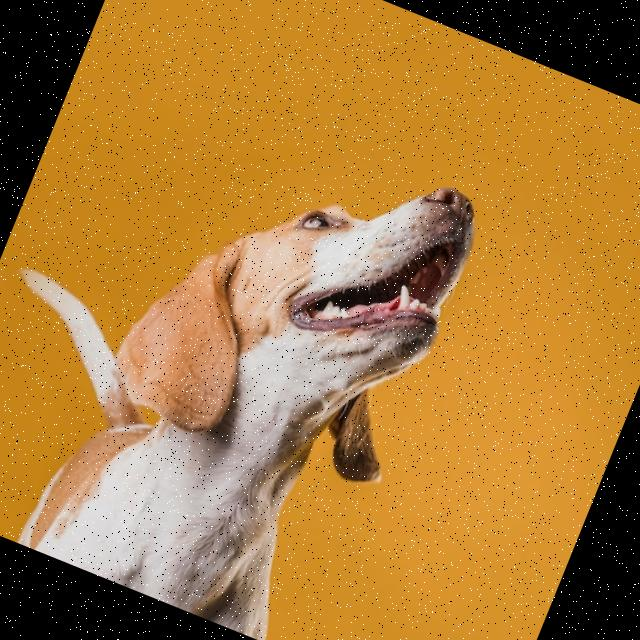Dog: (0, 49, 491, 640)
